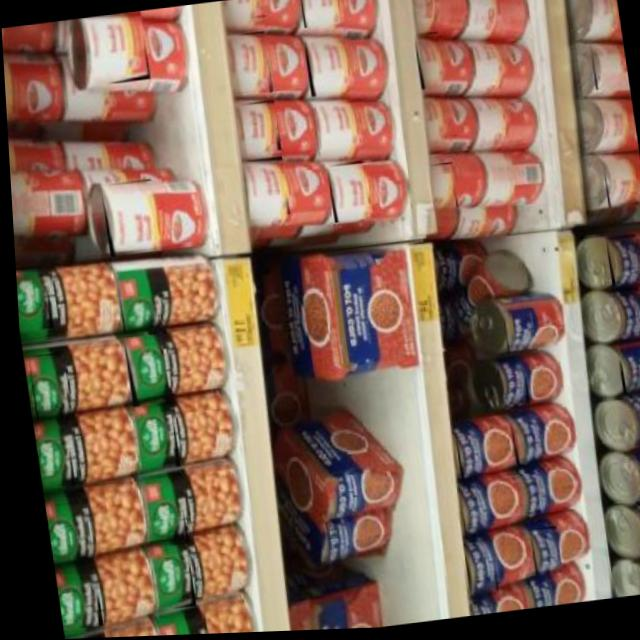Beans: (97, 178, 161, 258), (86, 11, 151, 88), (134, 473, 183, 550), (125, 399, 176, 472), (119, 334, 168, 408), (39, 499, 91, 564), (143, 541, 191, 611), (308, 93, 357, 159), (303, 35, 352, 100), (21, 351, 66, 421), (240, 157, 289, 221), (112, 271, 161, 334), (323, 161, 369, 225), (232, 31, 273, 98), (48, 575, 95, 631), (32, 427, 72, 489), (238, 100, 281, 156), (13, 268, 50, 332), (603, 238, 640, 292), (605, 290, 640, 347), (599, 162, 638, 213), (459, 537, 492, 597), (412, 34, 445, 93), (588, 42, 625, 93), (451, 484, 483, 542), (503, 418, 539, 469), (511, 472, 549, 520), (521, 529, 557, 579), (498, 308, 534, 358), (449, 430, 480, 483), (424, 164, 456, 214), (494, 359, 526, 409), (601, 104, 632, 154), (614, 398, 640, 451), (584, 0, 621, 37), (425, 102, 458, 143), (299, 0, 342, 29), (613, 356, 640, 400), (622, 457, 640, 512), (225, 0, 266, 22), (3, 59, 14, 129), (635, 558, 640, 598)
